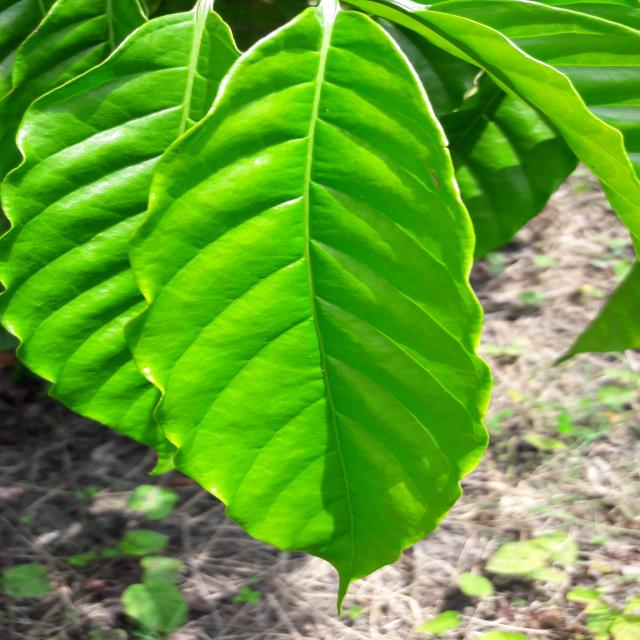Sanas: (127, 0, 492, 593)
